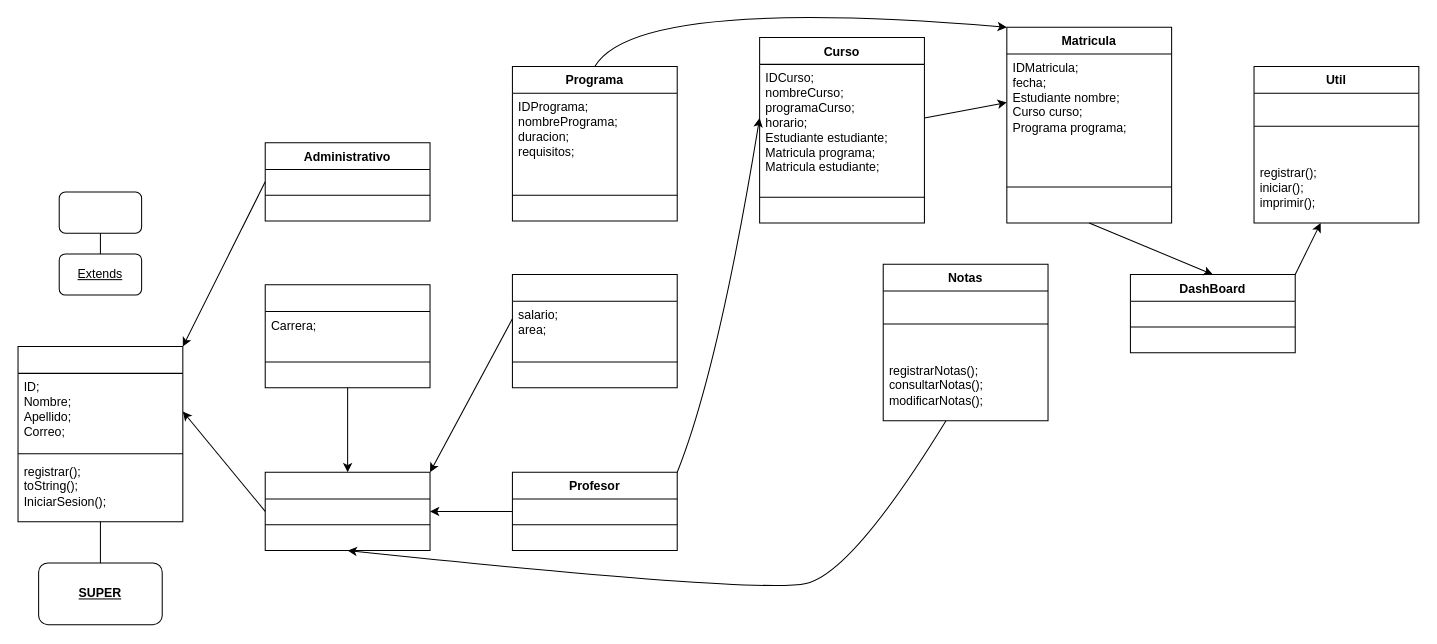
The diagram is 1437 pixels wide and 644 high, and some of its shapes have lost their labels. The box of each missing label's shape, as (x1, y1, x2, y2) in pixels:
Academico: (264, 471, 430, 551)
EmpleadoEscuela: (511, 273, 677, 388)
Estudiante: (264, 284, 430, 388)
Herencia: (58, 191, 142, 233)
Usuario: (17, 346, 183, 522)
